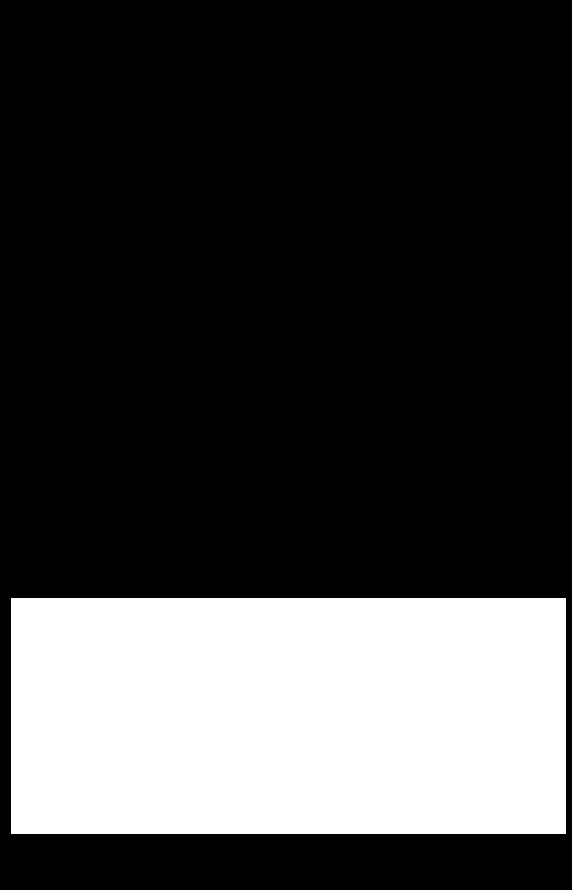table: (11, 598, 565, 833)
